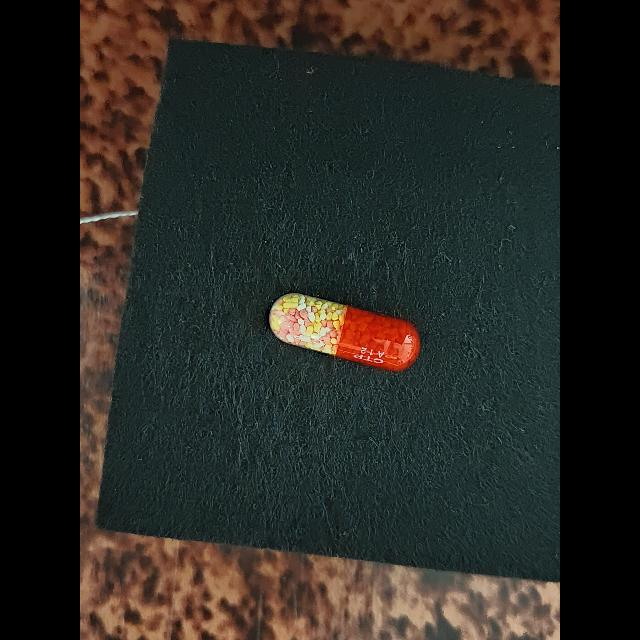Intact Capsule: (269, 293, 420, 371)
